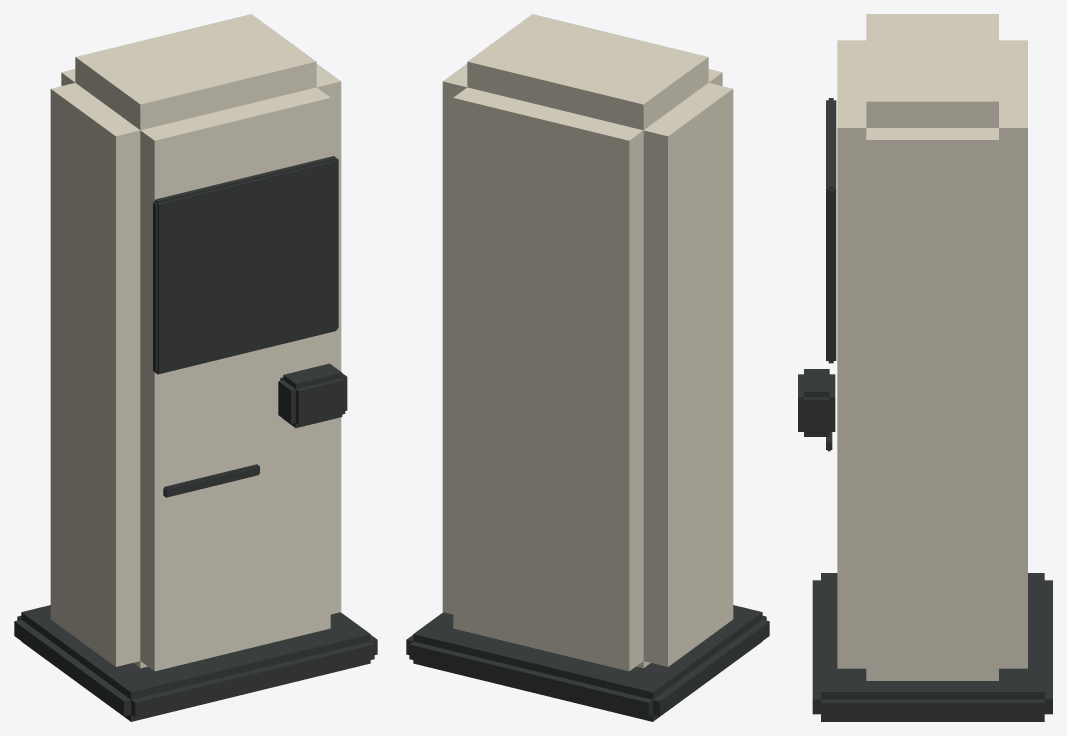
File: cinema_ticket_kiosk.glb
3 renders of one model, left to right at view 1: azimuth 30°, elevation 25°; view 2: azimuth 150°, elevation 25°; view 3: azimuth 270°, elevation 25°, orthographic.
Visible parts, largest first — view 1: cinema_ticket_kiosk_Warm_cream_enamel, cinema_ticket_kiosk_Anodised_graphite; view 2: cinema_ticket_kiosk_Warm_cream_enamel, cinema_ticket_kiosk_Anodised_graphite; view 3: cinema_ticket_kiosk_Warm_cream_enamel, cinema_ticket_kiosk_Anodised_graphite.
Boxes of the visible parts, left/top/right/bottom form: cinema_ticket_kiosk_Warm_cream_enamel: left=50, top=14, right=341, bottom=671; cinema_ticket_kiosk_Anodised_graphite: left=14, top=156, right=377, bottom=721; cinema_ticket_kiosk_Warm_cream_enamel: left=442, top=14, right=733, bottom=671; cinema_ticket_kiosk_Anodised_graphite: left=406, top=605, right=769, bottom=721; cinema_ticket_kiosk_Warm_cream_enamel: left=837, top=14, right=1027, bottom=680; cinema_ticket_kiosk_Anodised_graphite: left=798, top=98, right=1052, bottom=721.
Size of the model in its own units: 0.72 by 1.61 by 0.615.
